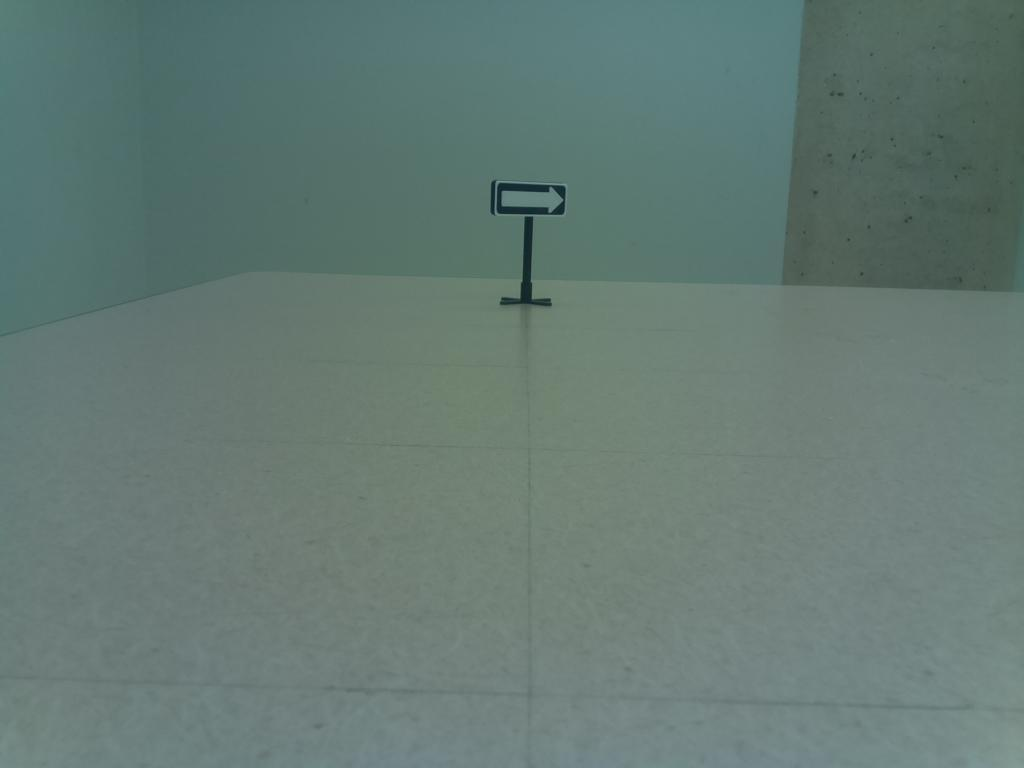sign_oneway_right: (487, 175, 571, 223)
